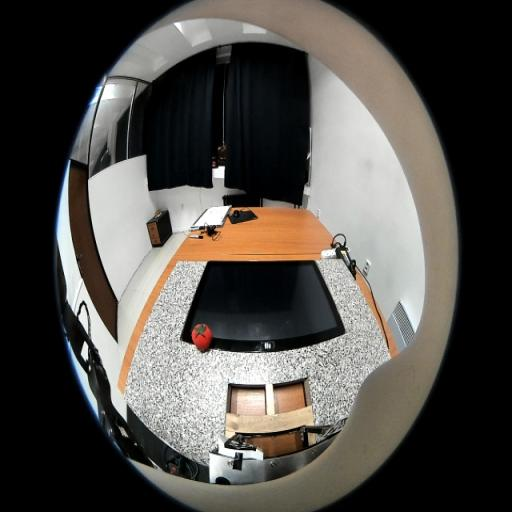Tomato: (191, 323, 213, 350)
